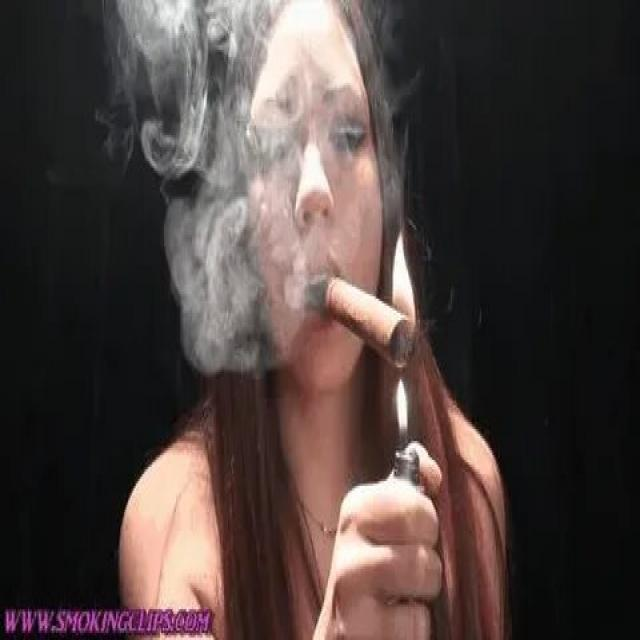smoke: (311, 272, 418, 370)
